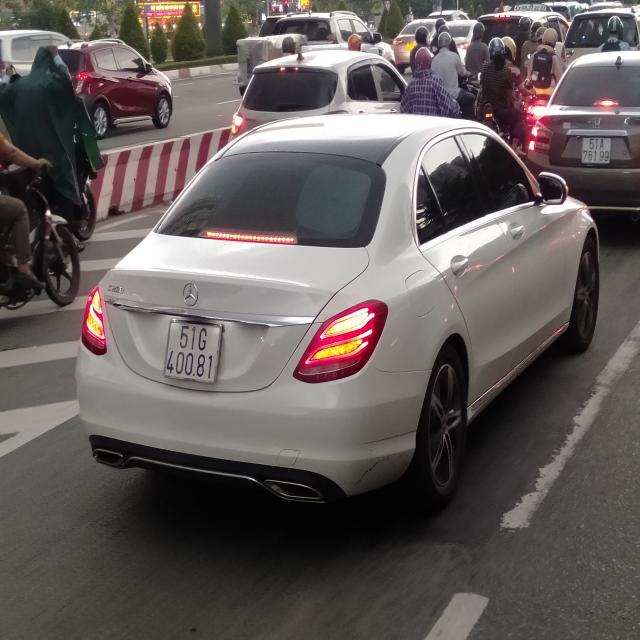bien_trang: (163, 316, 221, 386)
